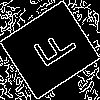F: (24, 25, 79, 75)
